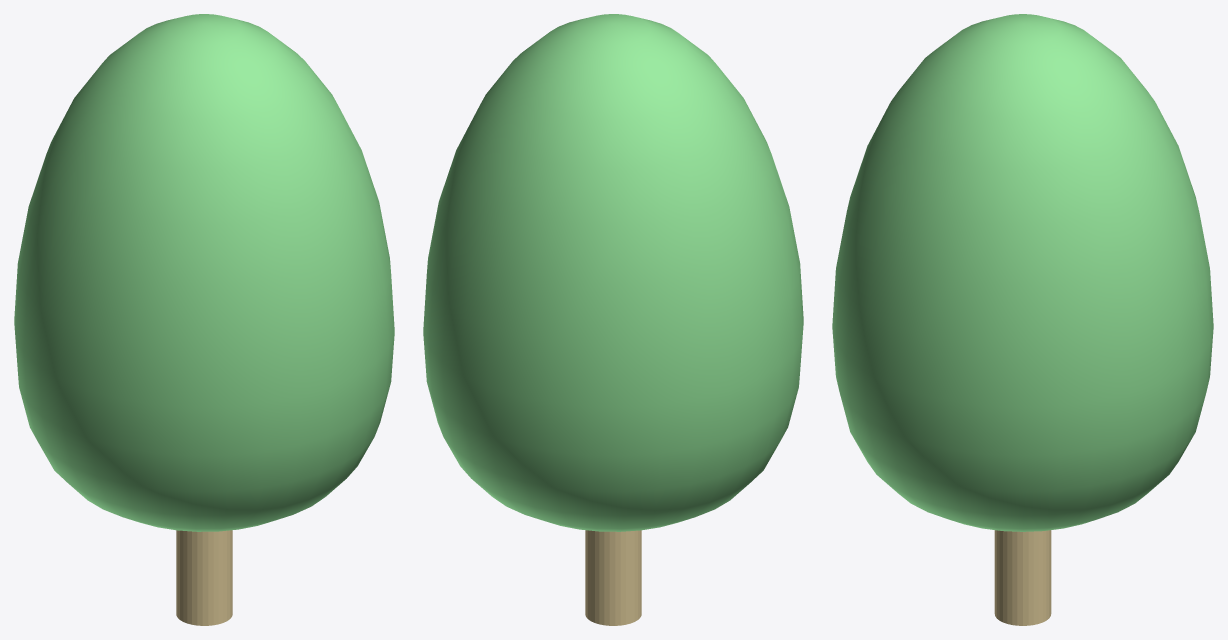
File: tree02.glb
The picture shows the model from 3 angles, left to right: view 1: azimuth 30°, elevation 25°; view 2: azimuth 150°, elevation 25°; view 3: azimuth 270°, elevation 25°; orthographic projection.
Parts seen in each view (by area): view 1: Cylinder.013; view 2: Cylinder.013; view 3: Cylinder.013.
Boxes of the visible parts, x1=… form: Cylinder.013: x1=14, y1=14, x2=394, y2=625; Cylinder.013: x1=423, y1=14, x2=803, y2=625; Cylinder.013: x1=832, y1=14, x2=1213, y2=625.
Bounding box in the file's own units: 0.8018 × 1.37 × 0.8018.
